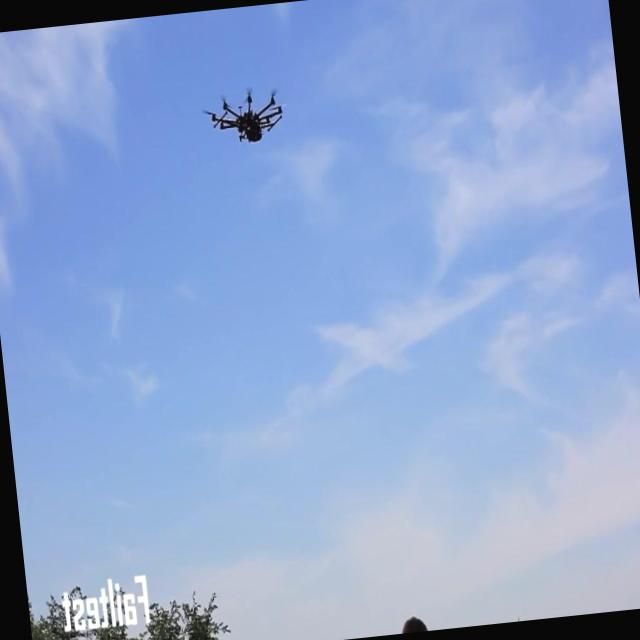drone: (201, 84, 288, 150)
